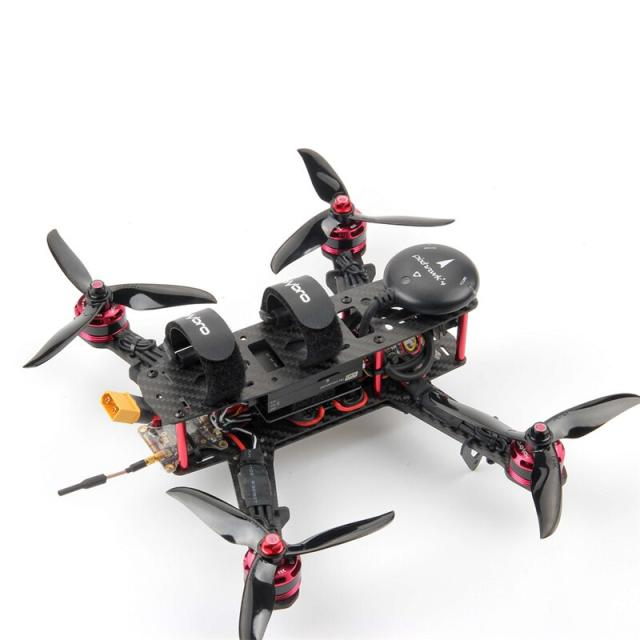drone: (33, 176, 633, 632)
